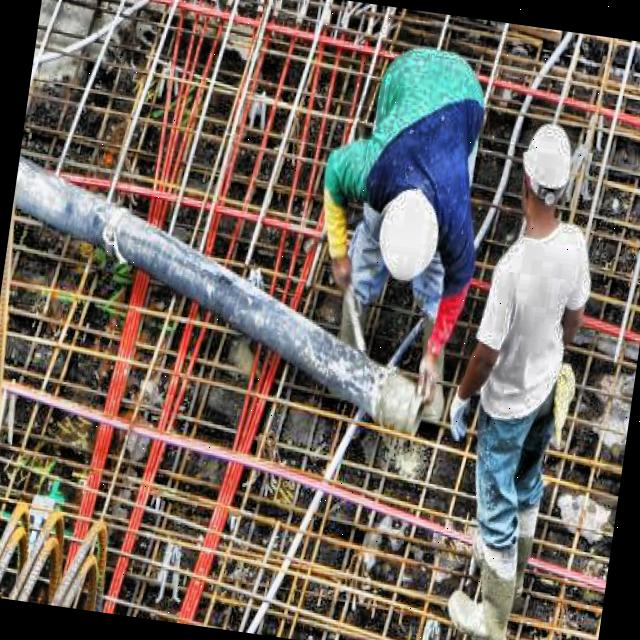helmet: (370, 179, 452, 297), (518, 114, 580, 218)
